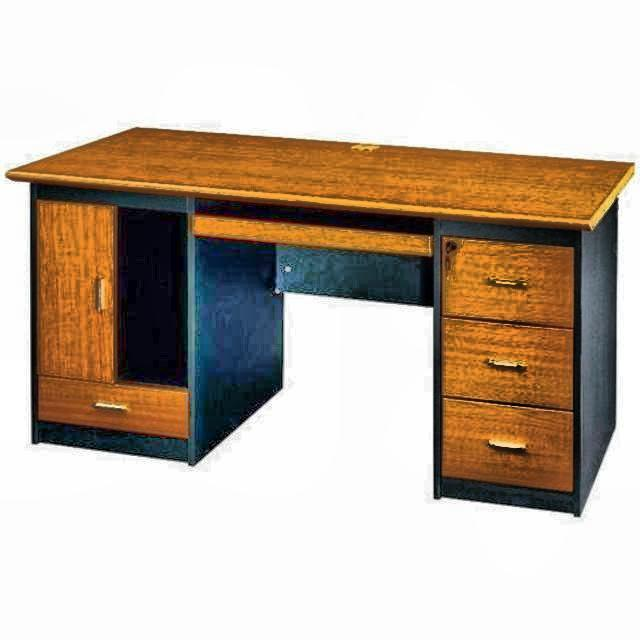mesa: (2, 110, 640, 557)
